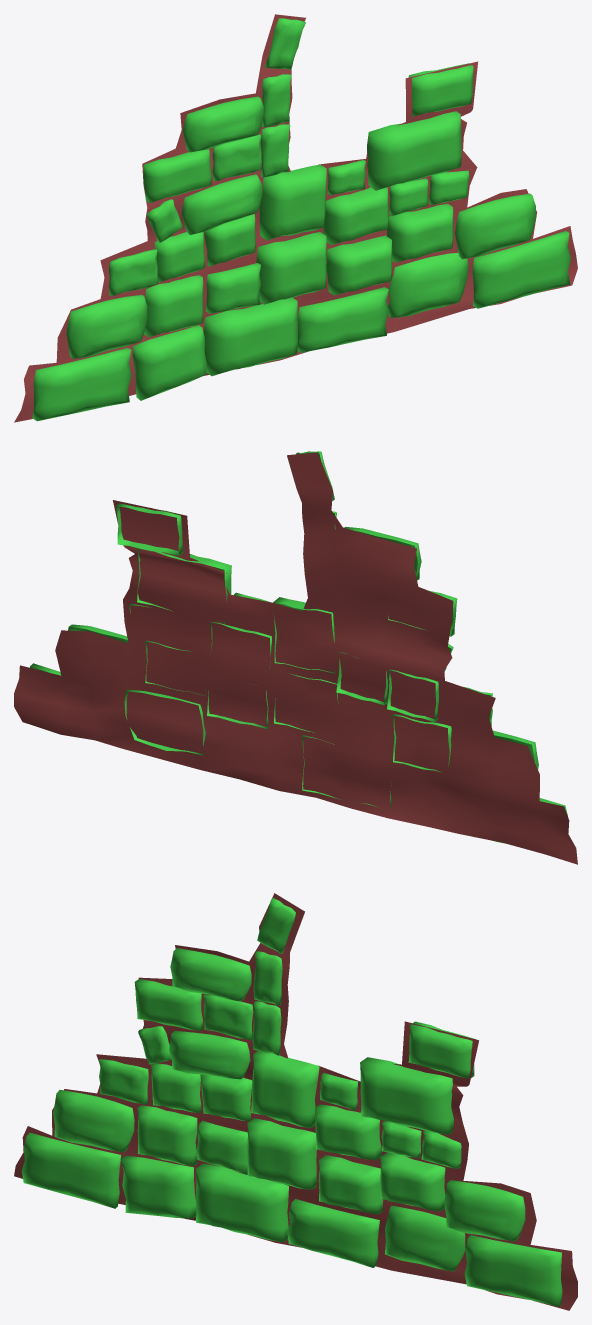
File: Ruins_Small_Wall.FBX
3 renders of one model, top to bottom at view 1: azimuth 30°, elevation 25°; view 2: azimuth 150°, elevation 25°; view 3: azimuth 330°, elevation 25°, orthographic.
Visible parts, largest first — view 1: Bricks, Mortar; view 2: Mortar, Bricks; view 3: Bricks, Mortar.
Boxes of the visible parts, x1,y1,x2,y2 form: Bricks: (32, 18, 570, 421); Mortar: (14, 14, 577, 422); Mortar: (14, 452, 577, 864); Bricks: (30, 451, 567, 843); Bricks: (22, 898, 562, 1306); Mortar: (14, 893, 577, 1310).
Bounding box in the file's own units: 50.37 × 29.72 × 2.69.
